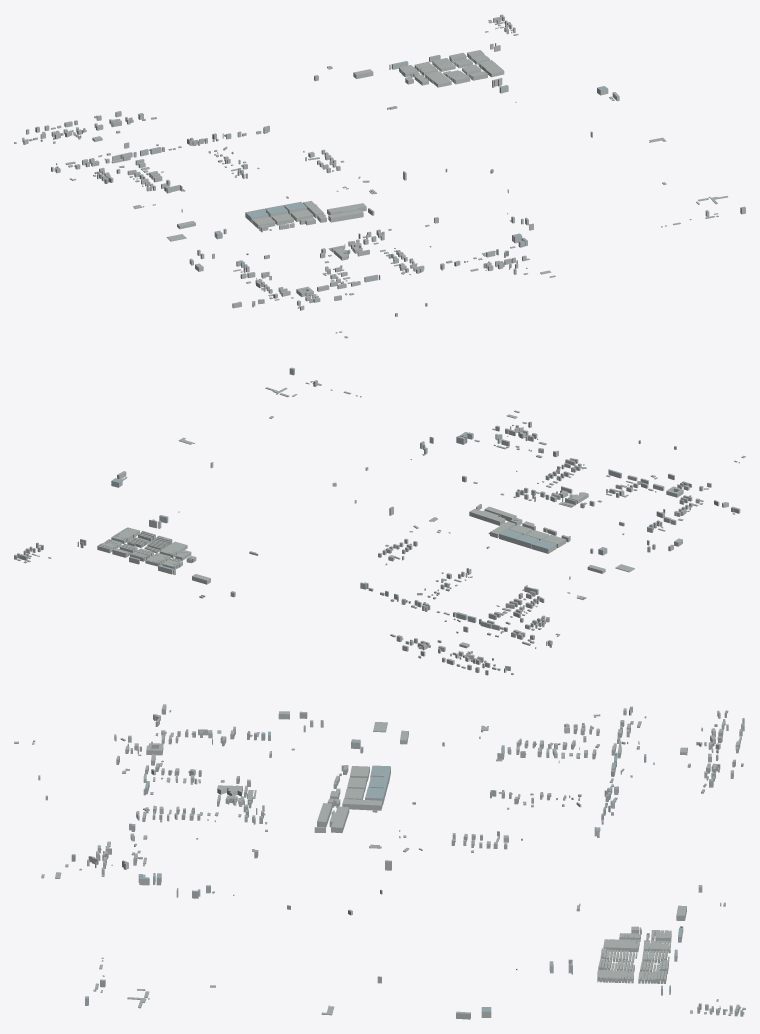
The model's file is far.glb.
The picture shows the model from 3 angles, top to bottom: view 1: azimuth 30°, elevation 25°; view 2: azimuth 150°, elevation 25°; view 3: azimuth 270°, elevation 25°; orthographic projection. The views are drawn at different scales.
Bounding box in the file's own units: 2097 × 28.3 × 2091.
